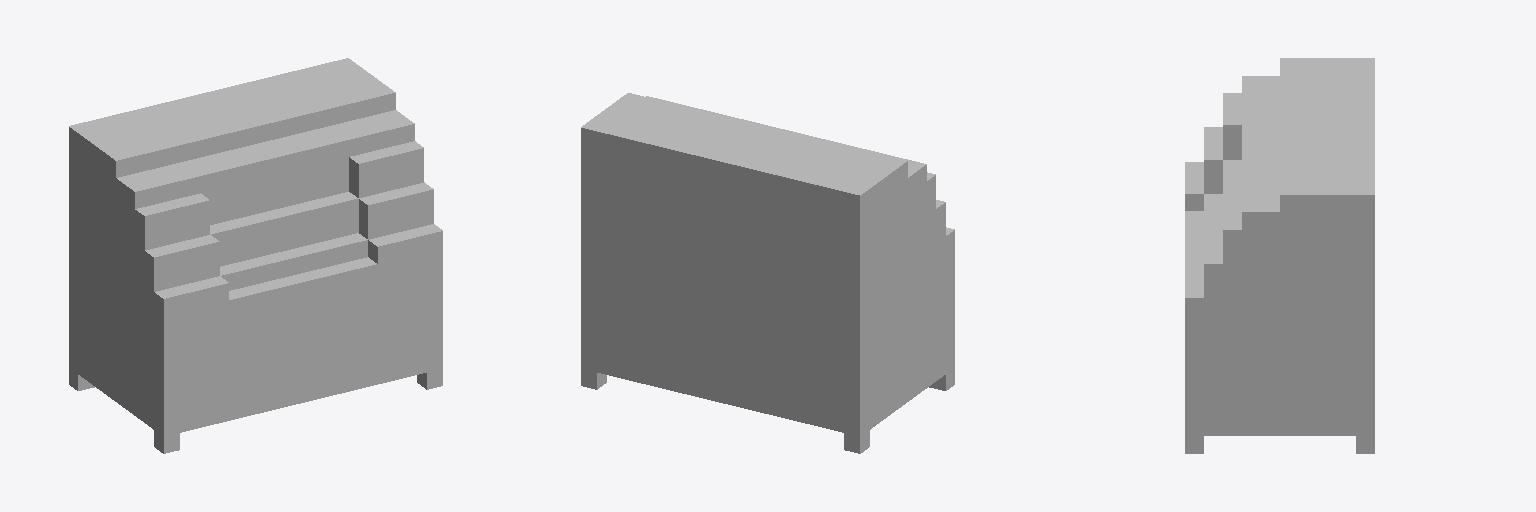
Rendered from baeto polli.obj.
3 views of the same model, side by side, from view 1: azimuth 30°, elevation 25°; view 2: azimuth 150°, elevation 25°; view 3: azimuth 270°, elevation 25° (orthographic).
Parts seen in each view (by area): view 1: object 1; view 2: object 1; view 3: object 1.
Boxes of the visible parts, x1,y1,x2,y2 form: object 1: [69, 58, 442, 453]; object 1: [581, 93, 954, 453]; object 1: [1185, 58, 1374, 453].
Size of the model in its own units: 3.4 by 3 by 2.